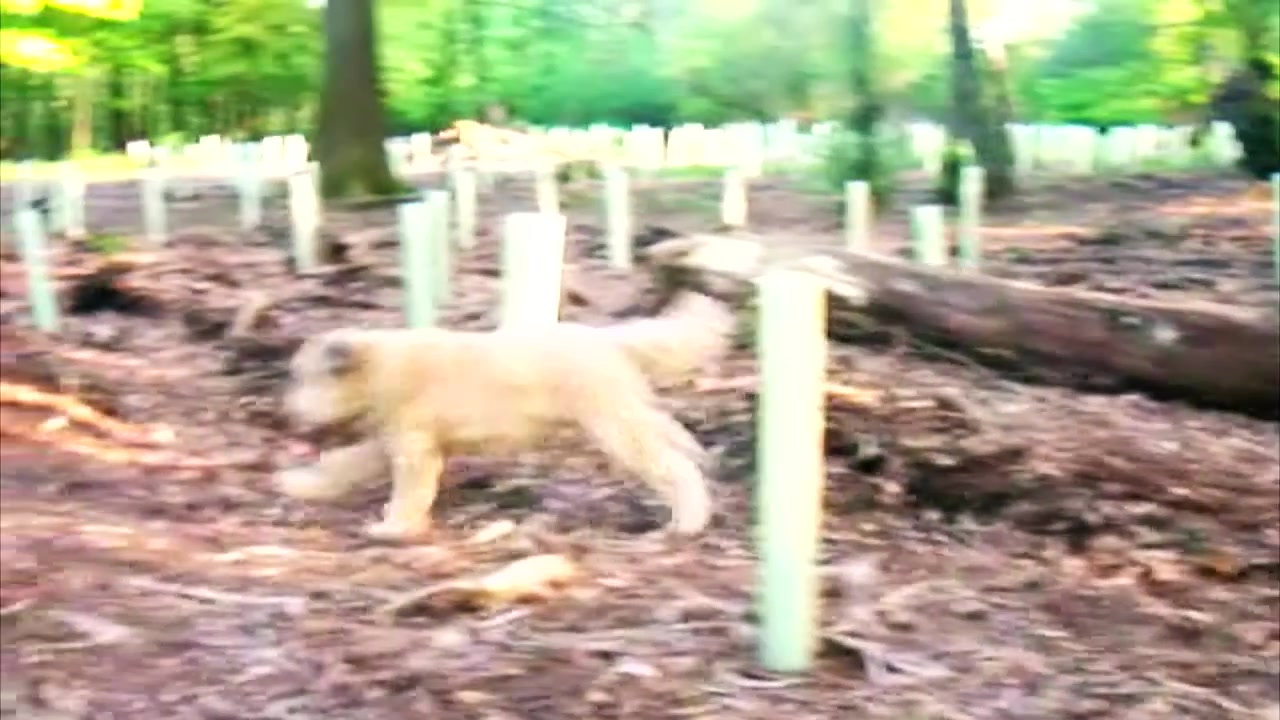dog: (279, 283, 740, 545)
